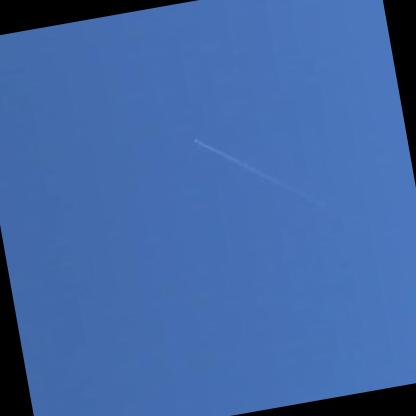plane: (187, 134, 202, 145)
